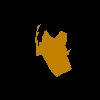maglia: (35, 23, 72, 76)
